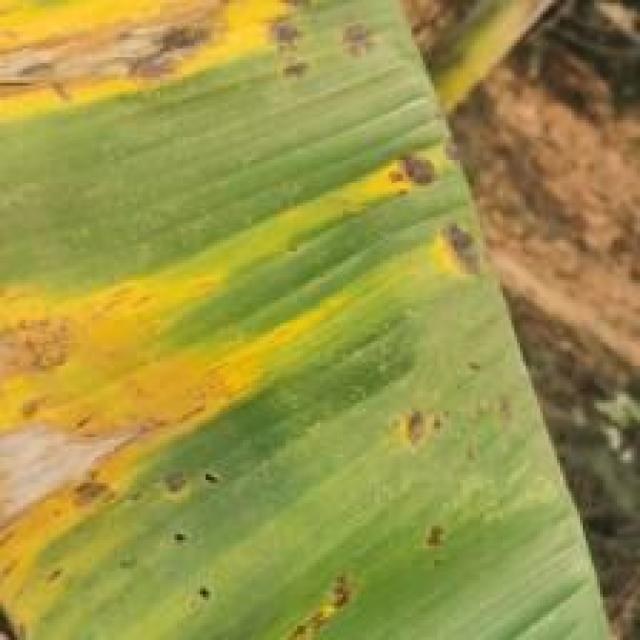Downey_mildrew: (3, 3, 637, 640)
